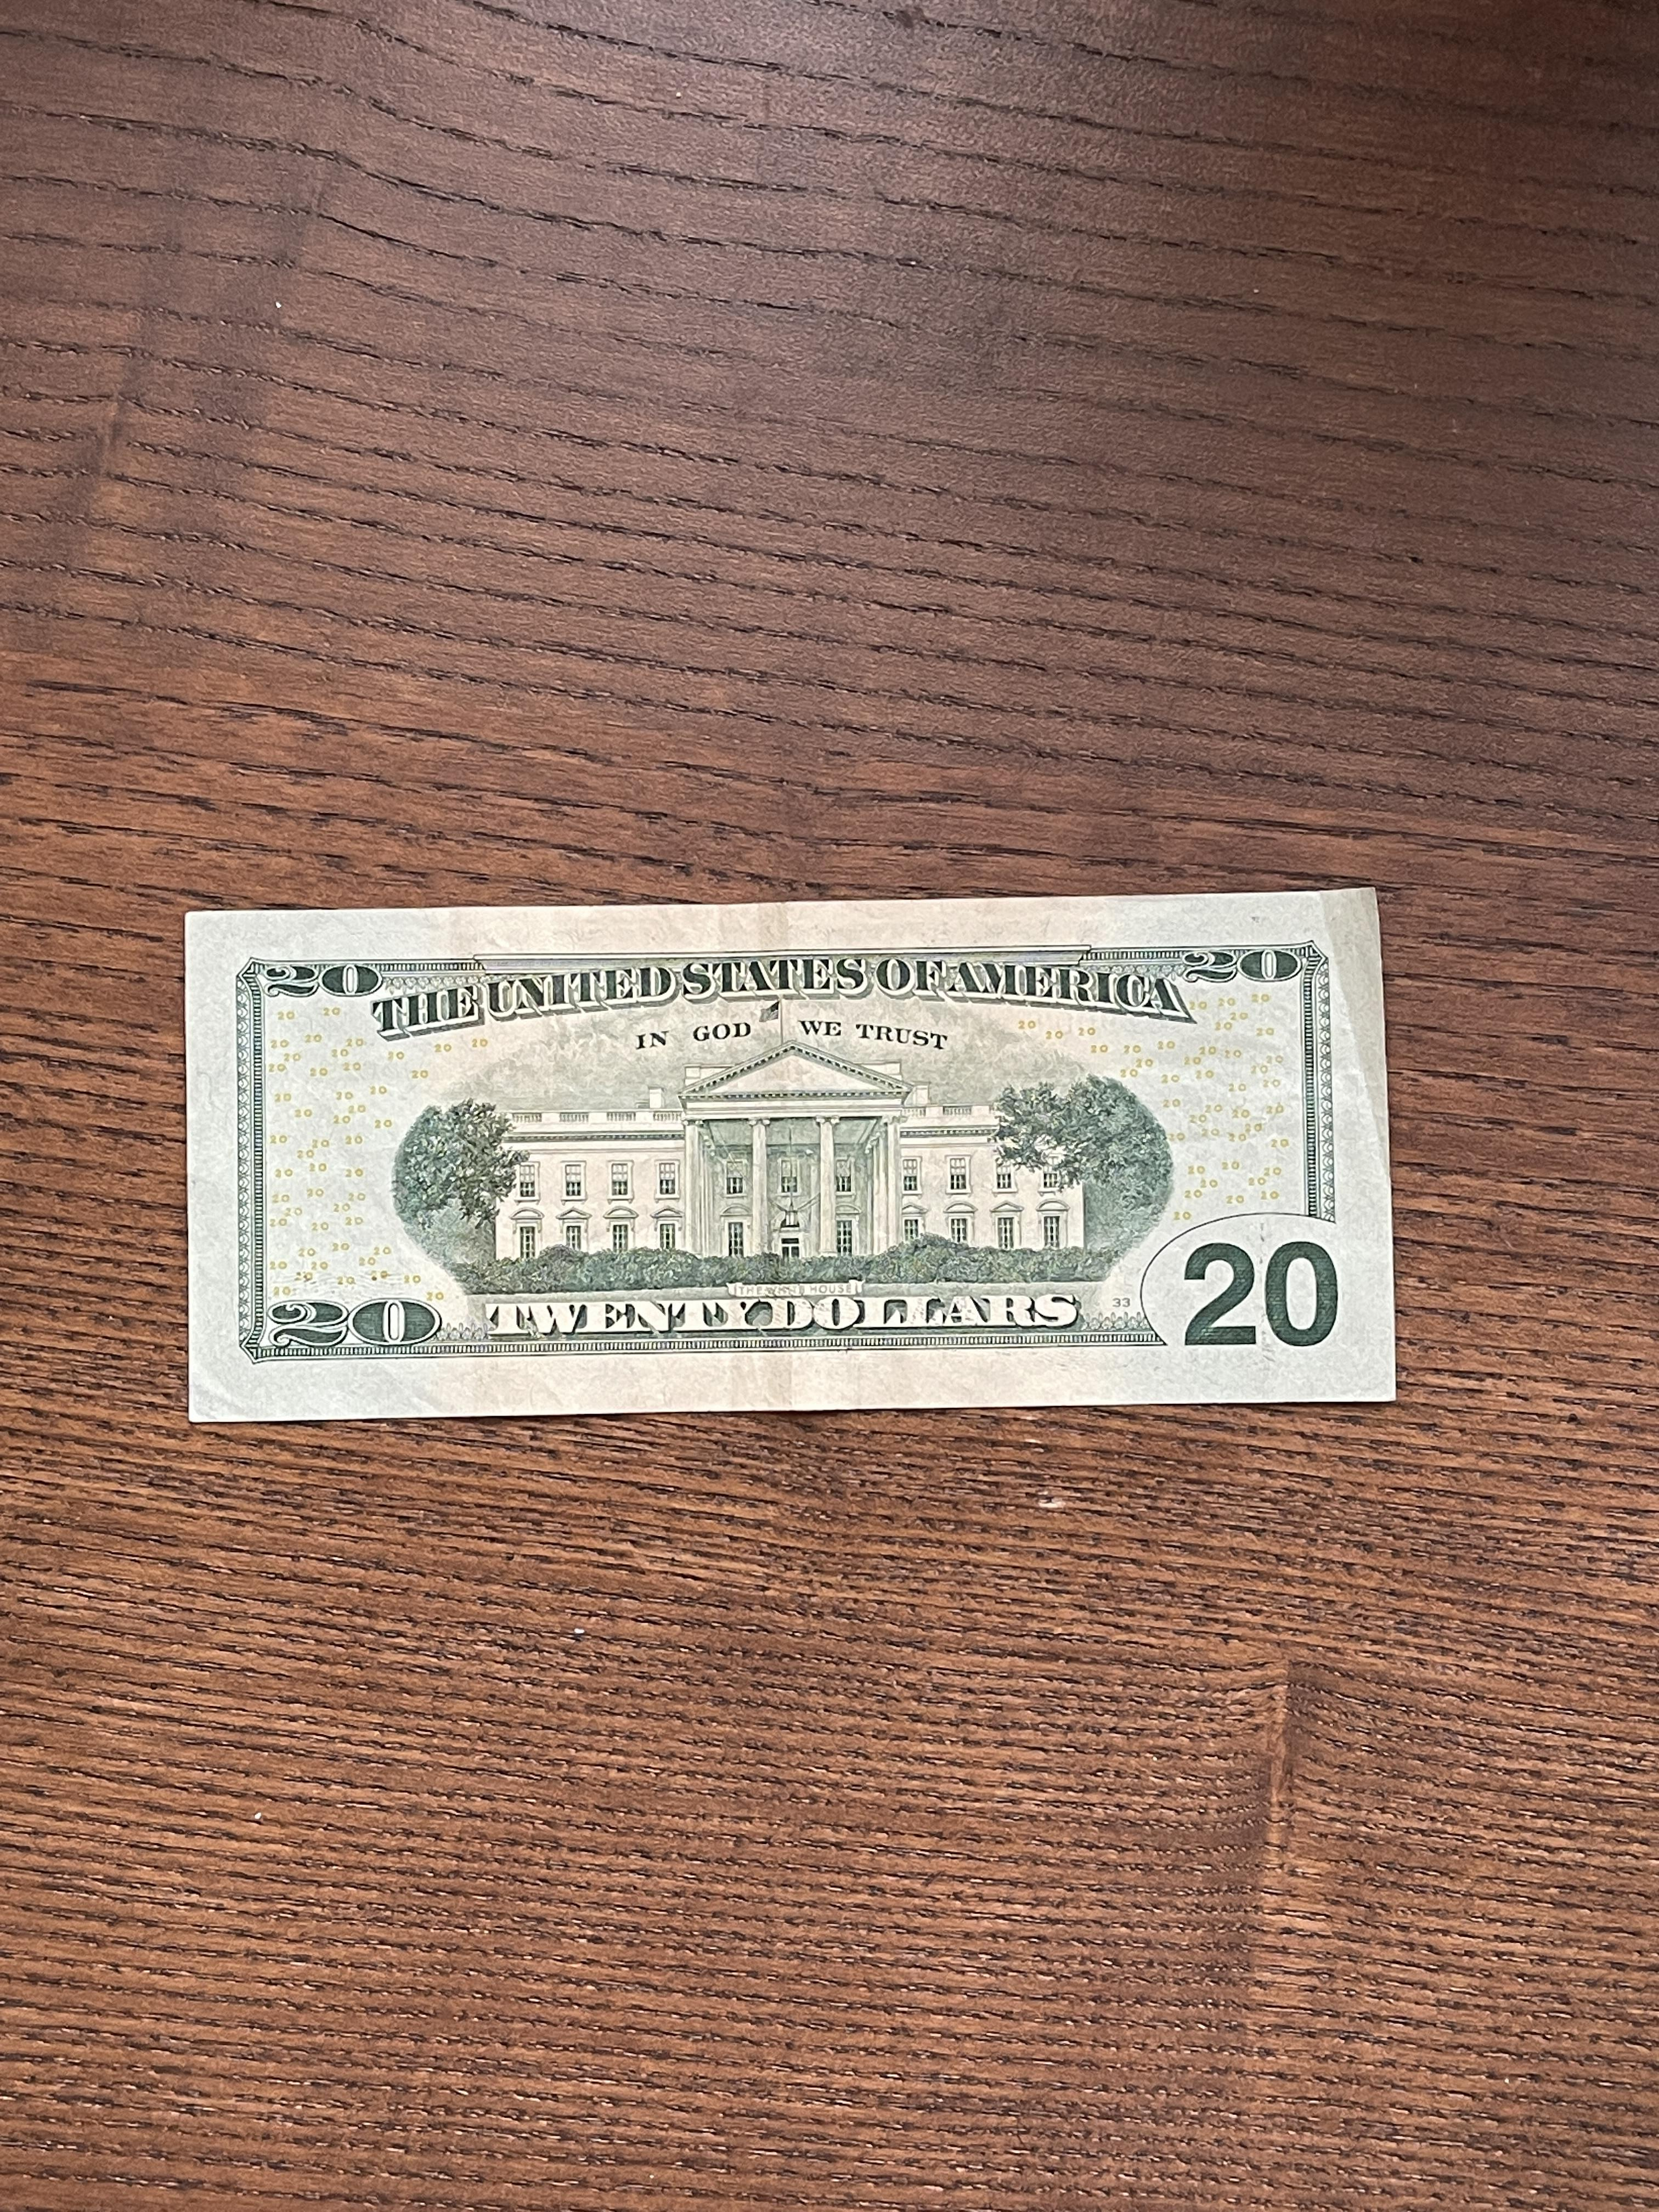TwentyBill: (178, 881, 1399, 1425)
